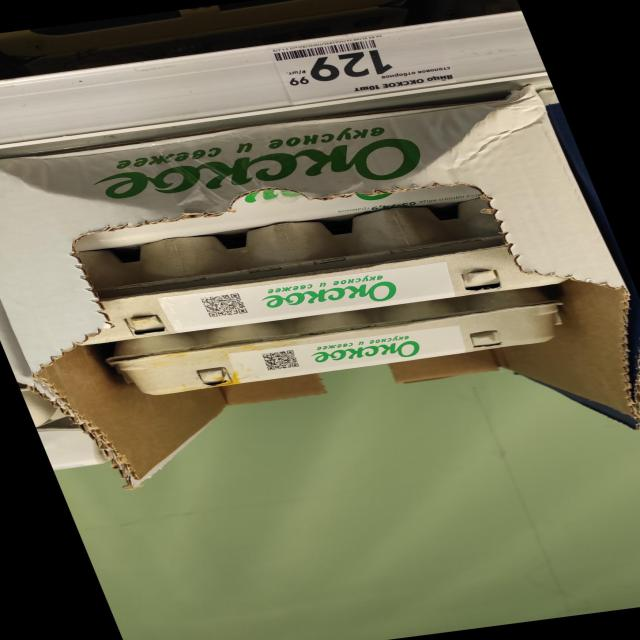organic waste: (37, 194, 565, 346), (98, 284, 570, 399)
